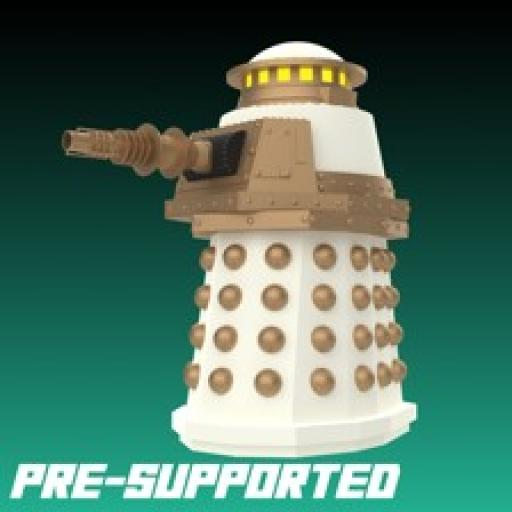dalek: (54, 36, 420, 458)
